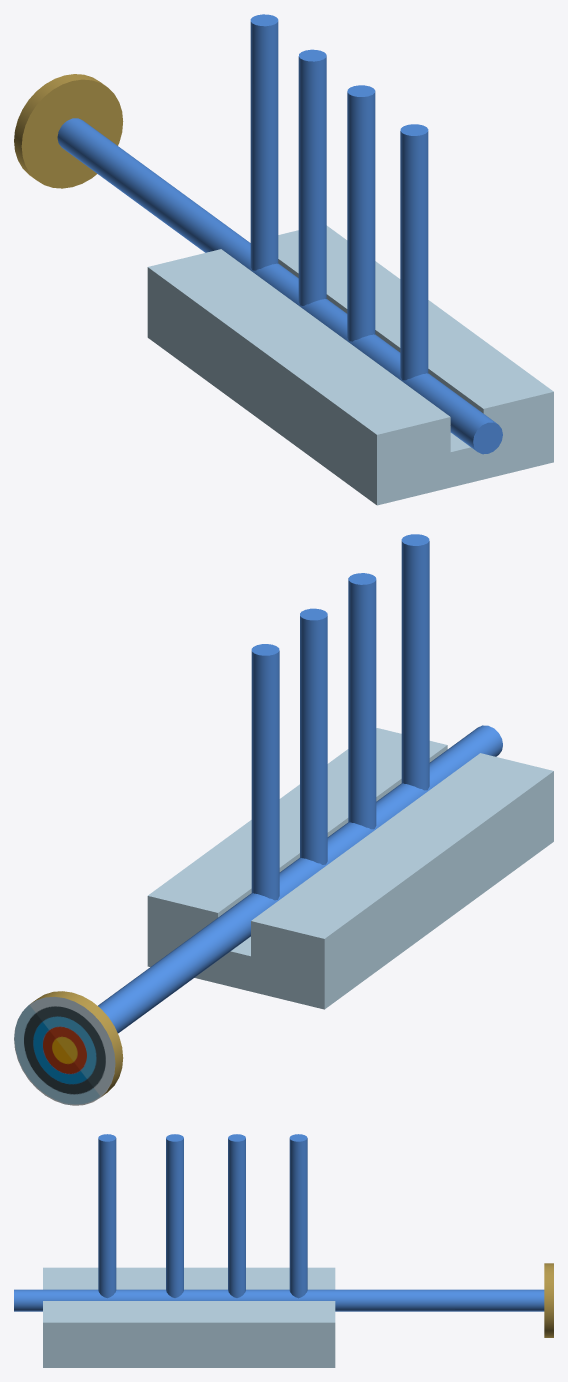
File: PathBlocker.fbx
The picture shows the model from 3 angles, top to bottom: view 1: azimuth 30°, elevation 25°; view 2: azimuth 150°, elevation 25°; view 3: azimuth 270°, elevation 25°; orthographic projection. The views are drawn at different scales.
Parts seen in each view (by area): view 1: Cube.014, Cylinder.002, Cylinder.007, Cylinder.005, Cylinder.006, Cylinder.003, Cylinder.004; view 2: Cube.014, Cylinder.002, Cylinder.007, Cylinder.006, Cylinder.005, Cylinder.003, Cylinder.004; view 3: Cube.014, Cylinder.002, Cylinder.003, Cylinder.006, Cylinder.004, Cylinder.005, Cylinder.007.
Boxes of the visible parts, x1,y1,x2,y2 form: Cube.014: [147, 225, 553, 505]; Cylinder.002: [57, 118, 502, 454]; Cylinder.007: [14, 74, 123, 188]; Cylinder.005: [347, 85, 375, 341]; Cylinder.006: [400, 124, 428, 380]; Cylinder.003: [250, 14, 278, 270]; Cylinder.004: [298, 49, 326, 305]; Cube.014: [147, 728, 553, 1009]; Cylinder.002: [98, 725, 502, 1033]; Cylinder.007: [14, 991, 123, 1105]; Cylinder.006: [401, 534, 429, 790]; Cylinder.005: [348, 573, 376, 829]; Cylinder.003: [251, 644, 279, 900]; Cylinder.004: [300, 608, 327, 864]; Cube.014: [43, 1267, 335, 1367]; Cylinder.002: [14, 1289, 544, 1311]; Cylinder.003: [289, 1134, 307, 1298]; Cylinder.006: [98, 1134, 116, 1298]; Cylinder.004: [228, 1134, 245, 1297]; Cylinder.005: [166, 1134, 183, 1297]; Cylinder.007: [544, 1263, 553, 1337].
Bounding box in the file's own units: 144 × 247 × 597.
